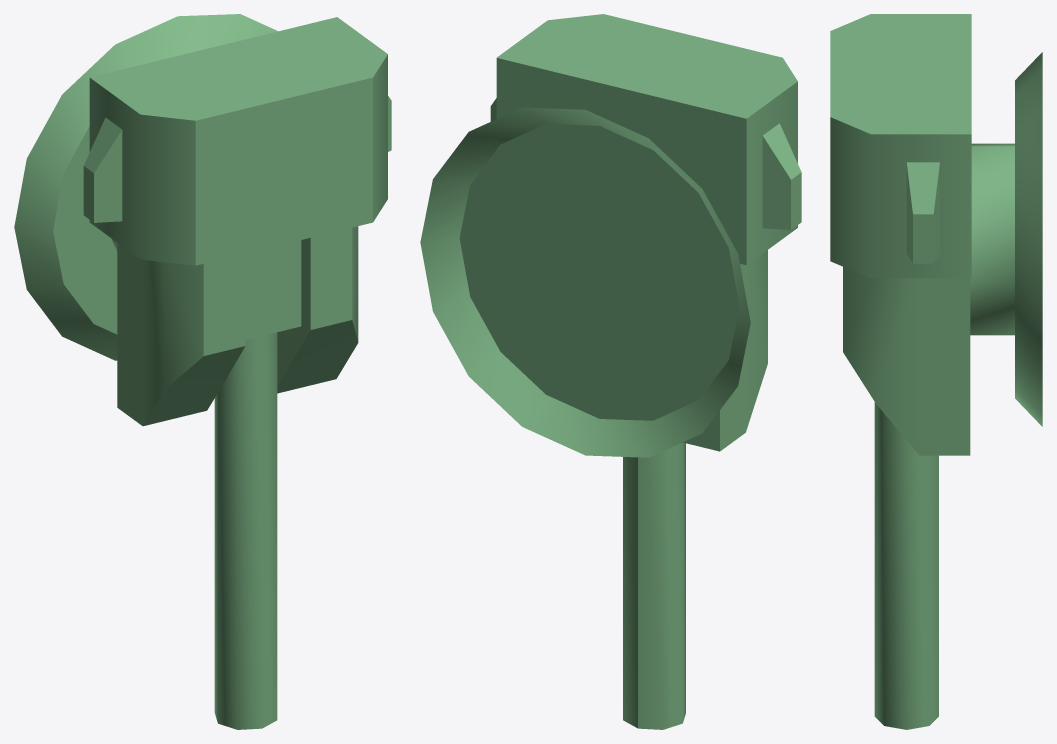
Rendered from platform_gun.fbx.
The picture shows the model from 3 angles, left to right: view 1: azimuth 30°, elevation 25°; view 2: azimuth 150°, elevation 25°; view 3: azimuth 270°, elevation 25°; orthographic projection.
Parts seen in each view (by area): view 1: PipelineFBX; view 2: PipelineFBX; view 3: PipelineFBX.
Boxes of the visible parts, bbox=[...] form: PipelineFBX: bbox=[14, 14, 391, 729]; PipelineFBX: bbox=[420, 14, 801, 729]; PipelineFBX: bbox=[830, 14, 1042, 729].
Size of the model in its own units: 27.26 by 51.82 by 15.39.
